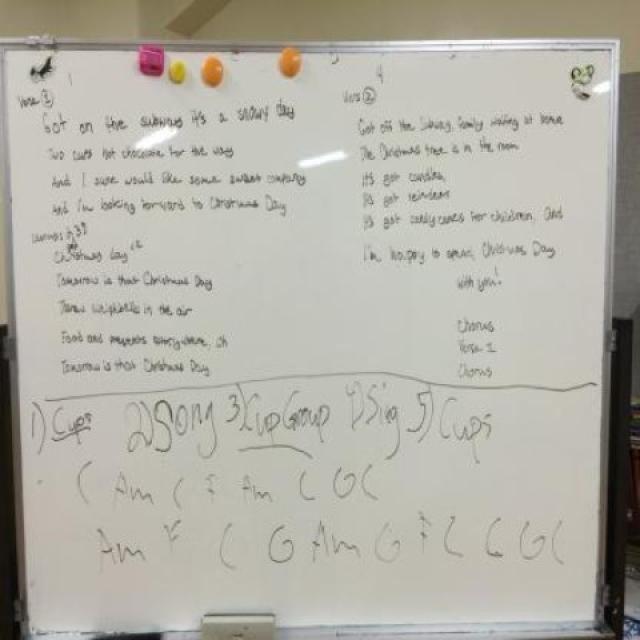White-board: (3, 44, 618, 633)
